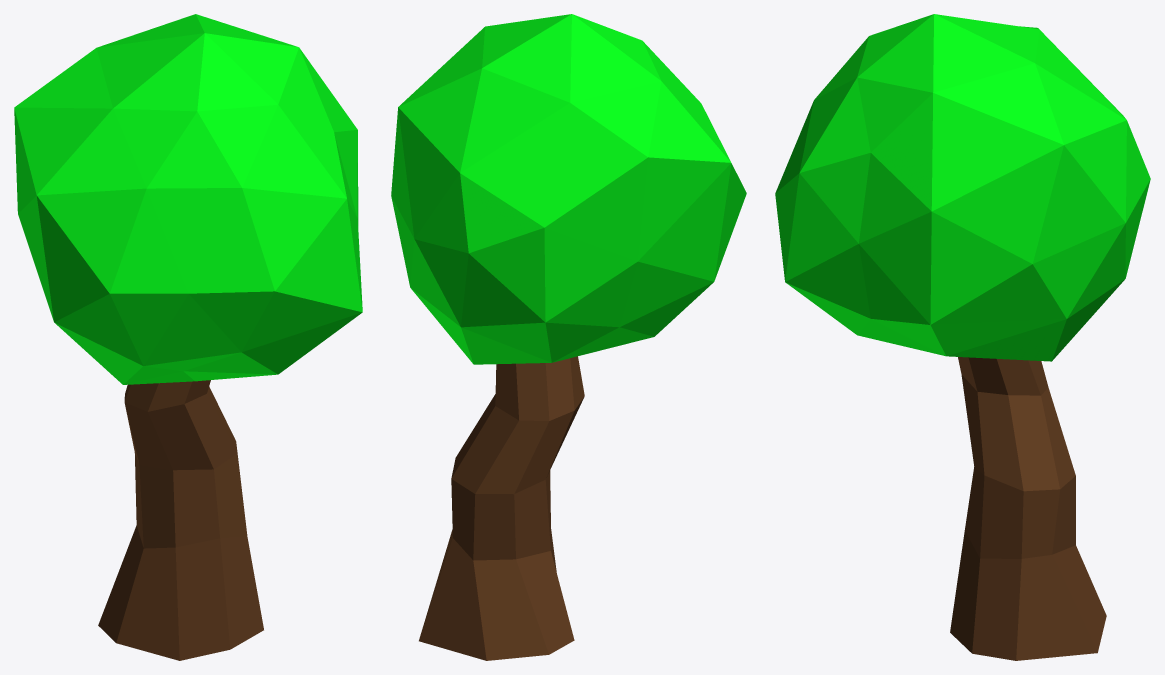
The model's file is Tree2.fbx.
The picture shows the model from 3 angles, left to right: view 1: azimuth 30°, elevation 25°; view 2: azimuth 150°, elevation 25°; view 3: azimuth 270°, elevation 25°; orthographic projection. The views are drawn at different scales.
Visible parts, largest first — view 1: Cube; view 2: Cube; view 3: Cube.
Boxes of the visible parts, box(x1,y1,x2,y2) form: Cube: box(14, 14, 362, 660); Cube: box(391, 14, 746, 660); Cube: box(775, 14, 1150, 660).
Bounding box in the file's own units: 573 × 1087 × 606.
